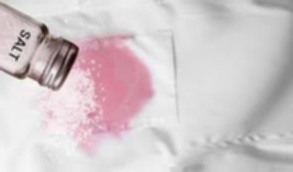wine: (94, 45, 147, 134), (76, 36, 126, 66)
